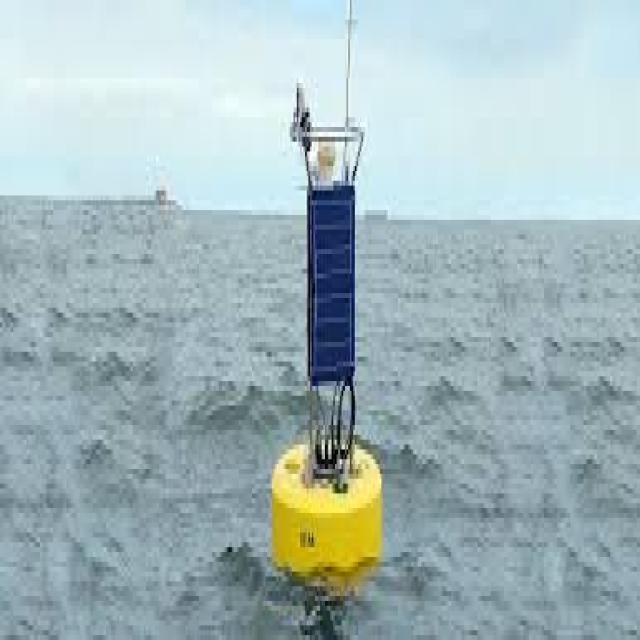buoy: (259, 14, 393, 583)
